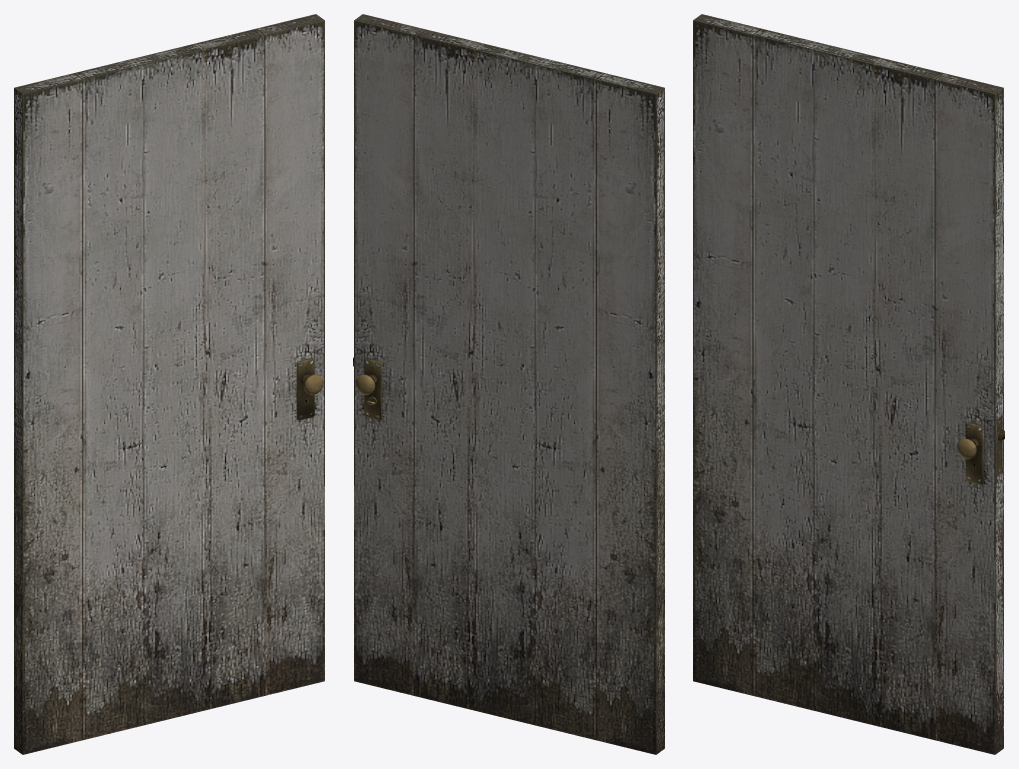
File: backentrancedoor01a.obj
The picture shows the model from 3 angles, left to right: view 1: azimuth 30°, elevation 25°; view 2: azimuth 150°, elevation 25°; view 3: azimuth 330°, elevation 25°; orthographic projection.
Visible parts, largest first — view 1: LODGroup_1_MainMesh_1_Submesh_1; view 2: LODGroup_1_MainMesh_1_Submesh_1; view 3: LODGroup_1_MainMesh_1_Submesh_1.
Part boxes in pixels (x1,y1,x2,y2): LODGroup_1_MainMesh_1_Submesh_1: (14,14,324,754); LODGroup_1_MainMesh_1_Submesh_1: (353,14,664,754); LODGroup_1_MainMesh_1_Submesh_1: (693,14,1004,754).
Size of the model in its own units: 101 by 209 by 17.74.
Materials: 1 (1 with a texture image).
